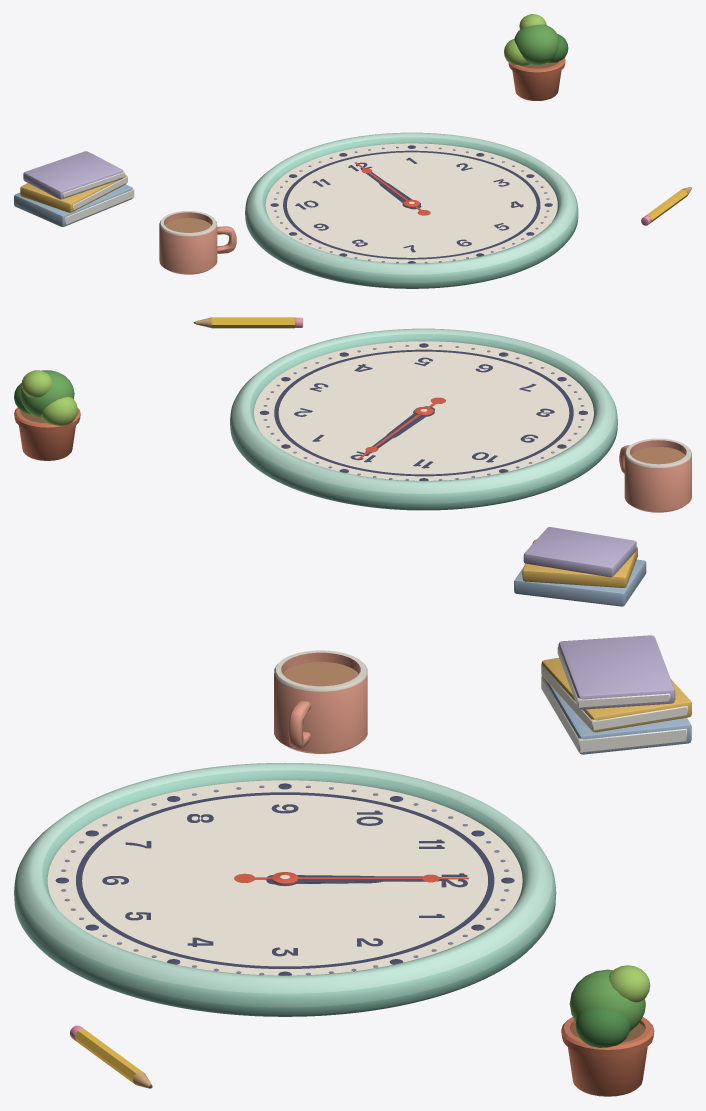
Rendered from clock_kit.glb.
3 views of the same model, one above another, from view 1: azimuth 30°, elevation 25°; view 2: azimuth 150°, elevation 25°; view 3: azimuth 270°, elevation 25° (orthographic). The views are drawn at different scales.
Parts seen in each view (by area): view 1: CLOCK, PROP_Books, PROP_Plant, PROP_Mug, PROP_Pencil; view 2: CLOCK, PROP_Books, PROP_Plant, PROP_Mug, PROP_Pencil, HAND_S; view 3: CLOCK, PROP_Books, PROP_Plant, PROP_Mug, PROP_Pencil, HAND_S, HAND_M.
Boxes of the visible parts, x1,y1,x2,y2 form: CLOCK: (245, 132, 578, 288); PROP_Books: (14, 151, 134, 226); PROP_Plant: (504, 14, 568, 100); PROP_Mug: (159, 211, 236, 274); PROP_Pencil: (641, 187, 691, 225); CLOCK: (230, 328, 617, 510); PROP_Books: (514, 527, 646, 606); PROP_Plant: (14, 370, 80, 460); PROP_Mug: (619, 438, 691, 512); PROP_Pencil: (193, 317, 302, 328); HAND_S: (357, 397, 445, 459); CLOCK: (14, 762, 556, 1016); PROP_Books: (541, 635, 691, 754); PROP_Plant: (561, 965, 654, 1096); PROP_Mug: (274, 650, 367, 753); PROP_Pencil: (70, 1025, 152, 1088); HAND_S: (234, 872, 468, 884); HAND_M: (266, 875, 445, 882).
Size of what is drawn, in the model's own units: 22.51 by 2.89 by 15.13.
Materials: 1 (1 with a texture image).
